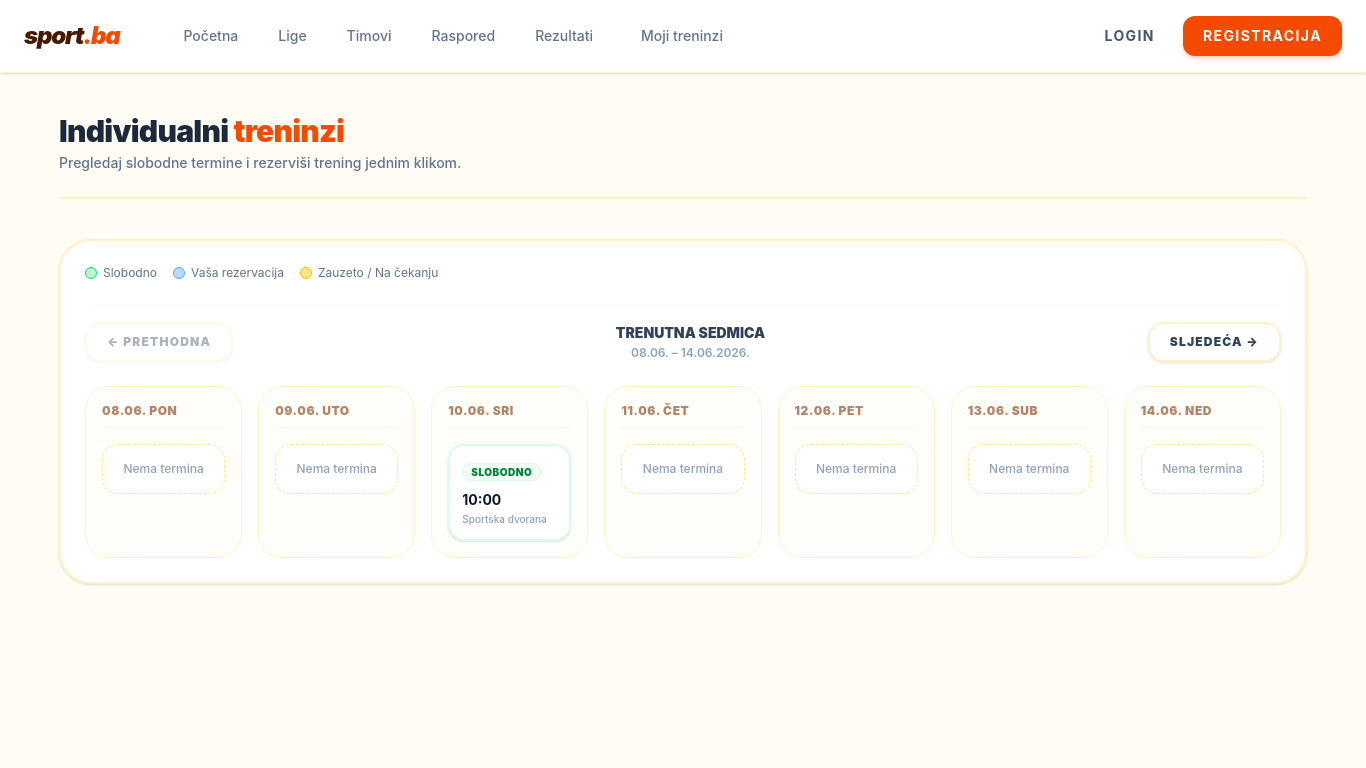
Test case: IndividualTraining page › prikazuje slobodne termine i otvara modal za rezervaciju
The width and height of the screenshot is (1366, 768).
Expected: the heading "Individualni treninzi" is shown, [59,113,344,149]
Expected: the text "Sportska dvorana" is shown, [462,512,557,527]
Click the button "Slobodno 10:00 Sportska dvorana" at (510, 492), box [448,444,571,541]
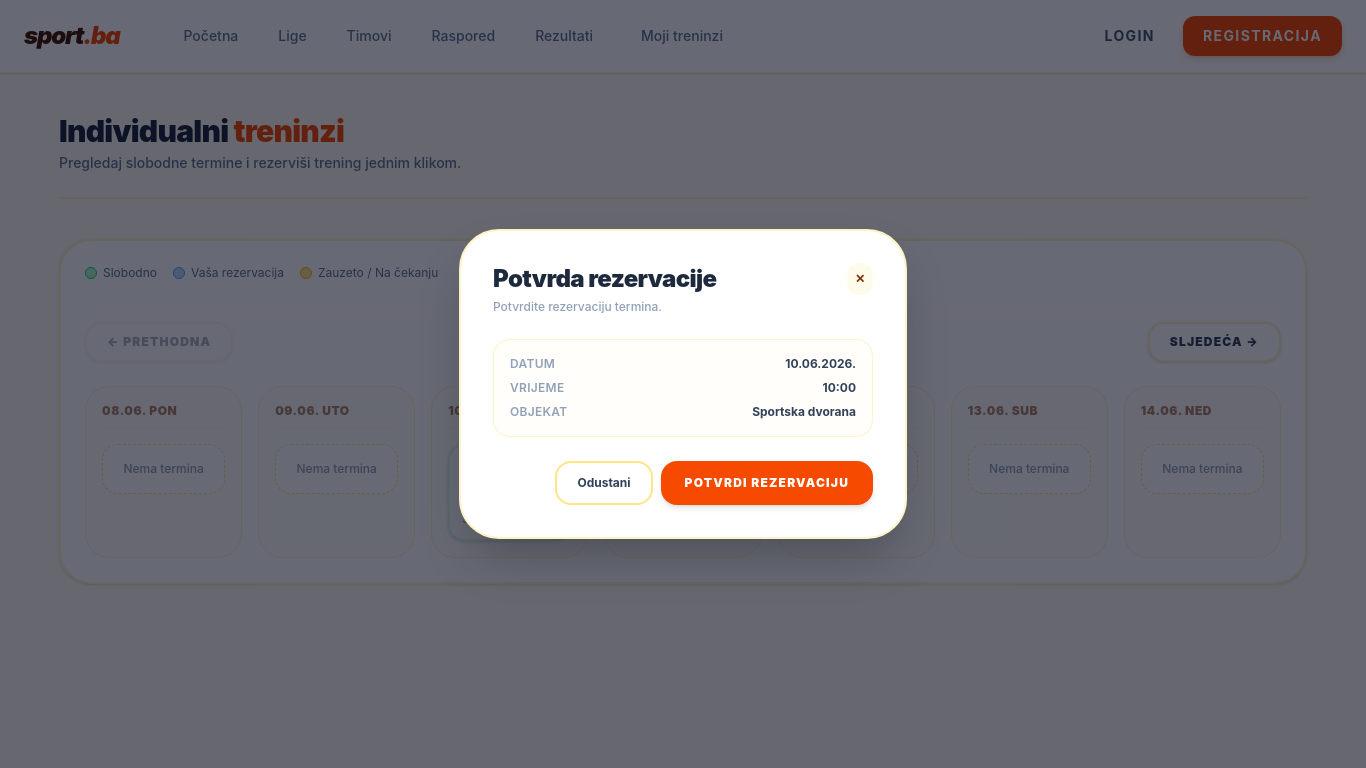
Now the heading "Potvrda rezervacije" is shown, box [493,263,717,295]
